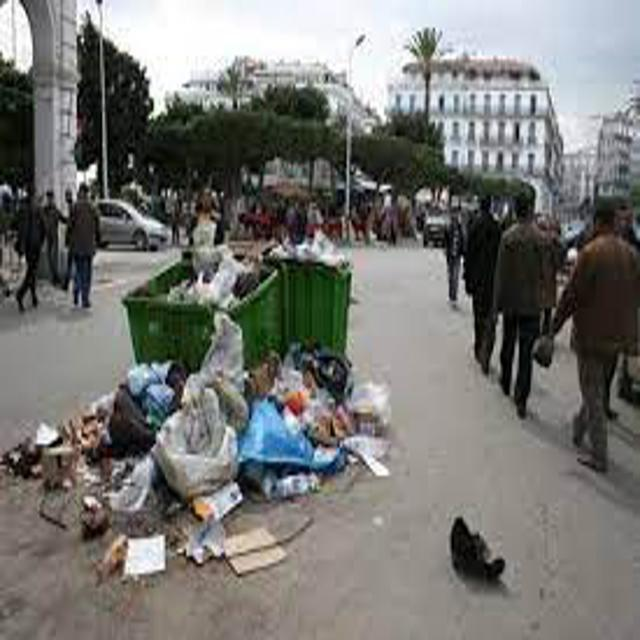garbage: (14, 234, 407, 614)
